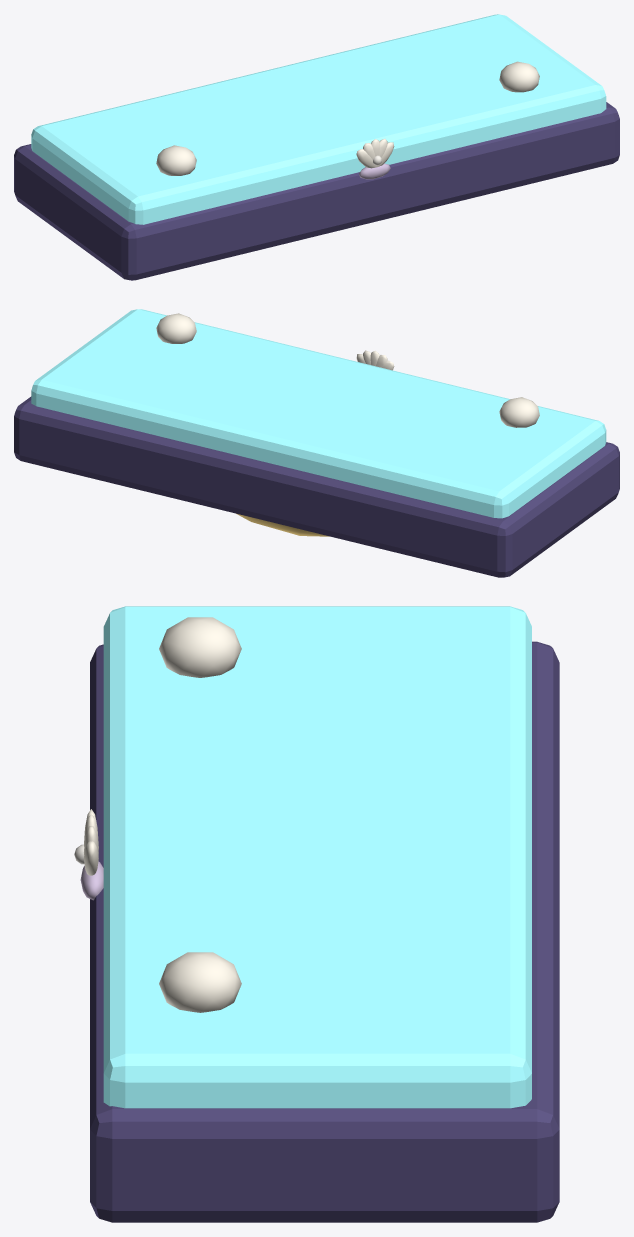
Rendered from pearl_music_bar_4.glb.
The picture shows the model from 3 angles, top to bottom: view 1: azimuth 30°, elevation 25°; view 2: azimuth 150°, elevation 25°; view 3: azimuth 270°, elevation 25°; orthographic projection. The views are drawn at different scales.
Visible parts, largest first — view 1: pearl_music_bar_4.001; view 2: pearl_music_bar_4.001; view 3: pearl_music_bar_4.001.
Boxes of the visible parts, bbox=[...] form: pearl_music_bar_4.001: bbox=[14, 14, 619, 280]; pearl_music_bar_4.001: bbox=[14, 309, 619, 577]; pearl_music_bar_4.001: bbox=[74, 606, 559, 1222].
Bounding box in the file's own units: 6.65 × 1.7 × 2.81.
